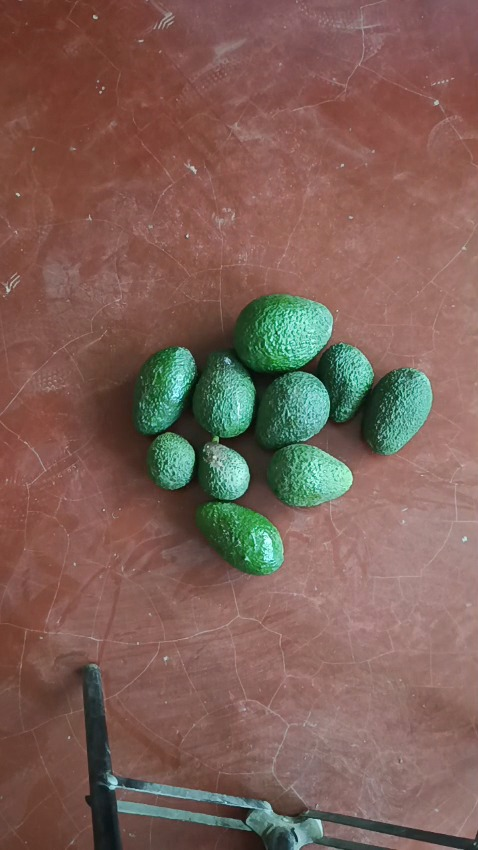Primera: (232, 293, 333, 372)
Segunda: (194, 501, 282, 573), (362, 366, 434, 454), (254, 370, 330, 450), (132, 345, 197, 435), (192, 351, 257, 439), (266, 443, 352, 507)
Tercera: (315, 341, 374, 423), (196, 439, 251, 500), (146, 431, 195, 490)
